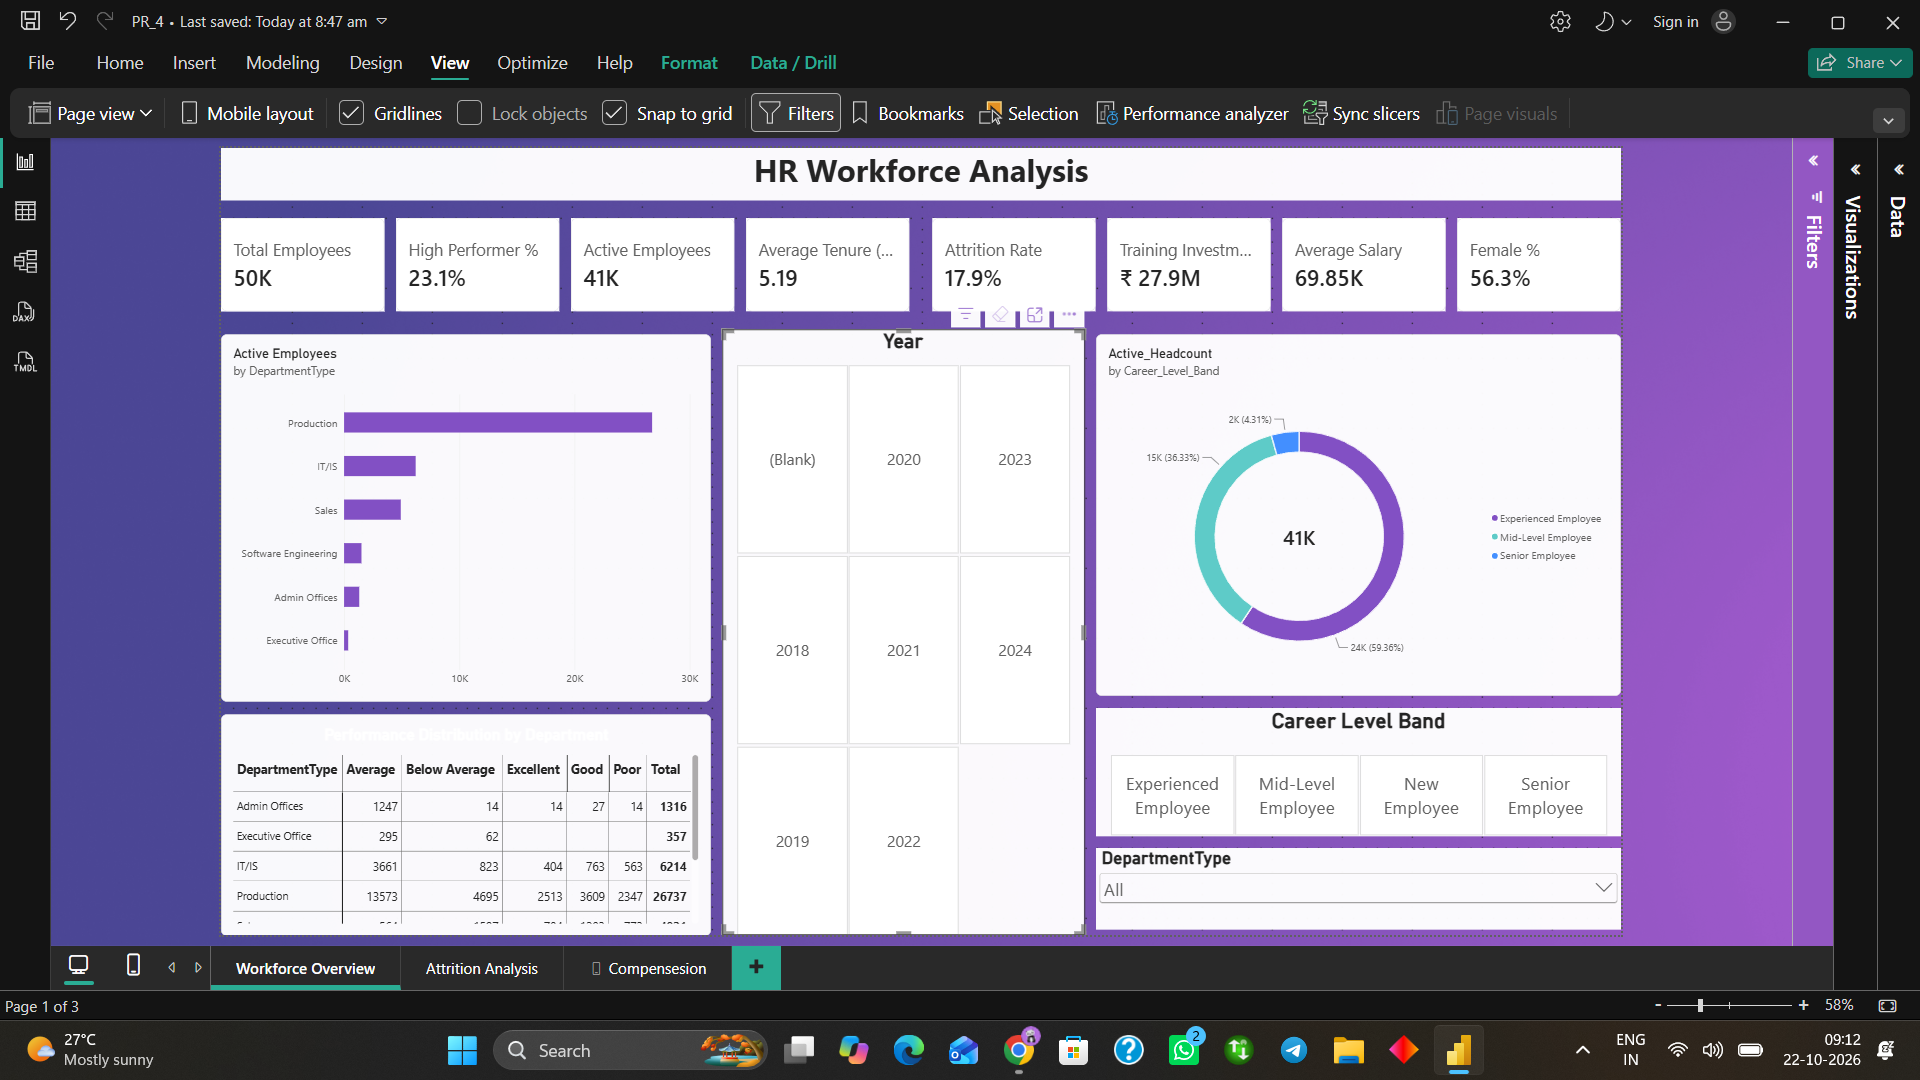

This screenshot's page, from the dashboard's own definition file:
{"tool":"powerbi","page":{"name":"Workforce Overview","canvas":[1920,1080],"ordinal":0},"visuals":[{"type":"cardVisual","fields":{"Data":["_Measures.Total_Headcount"]},"box":[0,96,224,128],"z":0},{"type":"cardVisual","fields":{"Data":["_Measures.Active_Headcount"]},"box":[480,96,224,128],"z":1000},{"type":"cardVisual","fields":{"Data":["_Measures.Attrition_Rate_%"]},"box":[976,96,224,128],"z":2000},{"type":"cardVisual","fields":{"Data":["_Measures.Avg_Salary"]},"box":[1456,96,224,128],"z":3000},{"type":"cardVisual","fields":{"Data":["_Measures.High_Performer_%"]},"box":[240,96,224,128],"z":4000},{"type":"cardVisual","fields":{"Data":["_Measures.Avg_Tenure"]},"box":[720,96,224,128],"z":5000},{"type":"cardVisual","fields":{"Data":["_Measures.Total_training_cost"]},"box":[1216,96,224,128],"z":6000},{"type":"cardVisual","fields":{"Data":["_Measures.Gender_Diversity_Ratio_%"]},"box":[1696,96,224,128],"z":7000},{"type":"barChart","fields":{"Category":["Employee_Master.DepartmentType"],"Y":["_Measures.Active_Headcount"]},"box":[0,256,672,504],"z":8000},{"type":"donutChart","fields":{"Category":["Employee_Master.Career_Level_Band"],"Y":["_Measures.Active_Headcount"]},"box":[1200,256,720,496],"z":9000},{"type":"textbox","box":[0,0,1920,72],"z":10000},{"type":"pivotTable","title":"Performance Distribution by Department","fields":{"Columns":["Employee_Master.Performance_Label"],"Rows":["Employee_Master.DepartmentType"],"Values":["_Measures.Active_Headcount"]},"box":[0,776,672,304],"z":11000},{"type":"slicer","title":"Year","fields":{"Values":["Dim_Date.Year"]},"box":[688,248,496,832],"z":12000},{"type":"slicer","fields":{"Values":["Employee_Master.DepartmentType"]},"box":[1200,960,720,112],"z":13000},{"type":"slicer","title":"Career Level Band","fields":{"Values":["Employee_Master.Career_Level_Band"]},"box":[1200,768,720,176],"z":14000}]}

Visuals, with their boxes on the page's 1920x1080 design canvas (x1, y1, x2, y2). These are canvas units, not pixel positions in the 1920x1080 screenshot, which may show the page scaled, cropped or inside an application window:
cardVisual - _Measures.Total_Headcount: <bbox>0, 96, 224, 224</bbox>
cardVisual - _Measures.Active_Headcount: <bbox>480, 96, 704, 224</bbox>
cardVisual - _Measures.Attrition_Rate_%: <bbox>976, 96, 1200, 224</bbox>
cardVisual - _Measures.Avg_Salary: <bbox>1456, 96, 1680, 224</bbox>
cardVisual - _Measures.High_Performer_%: <bbox>240, 96, 464, 224</bbox>
cardVisual - _Measures.Avg_Tenure: <bbox>720, 96, 944, 224</bbox>
cardVisual - _Measures.Total_training_cost: <bbox>1216, 96, 1440, 224</bbox>
cardVisual - _Measures.Gender_Diversity_Ratio_%: <bbox>1696, 96, 1920, 224</bbox>
barChart - Employee_Master.DepartmentType x _Measures.Active_Headcount: <bbox>0, 256, 672, 760</bbox>
donutChart - Employee_Master.Career_Level_Band x _Measures.Active_Headcount: <bbox>1200, 256, 1920, 752</bbox>
textbox: <bbox>0, 0, 1920, 72</bbox>
"Performance Distribution by Department" pivotTable: <bbox>0, 776, 672, 1080</bbox>
"Year" slicer: <bbox>688, 248, 1184, 1080</bbox>
slicer - Employee_Master.DepartmentType: <bbox>1200, 960, 1920, 1072</bbox>
"Career Level Band" slicer: <bbox>1200, 768, 1920, 944</bbox>
